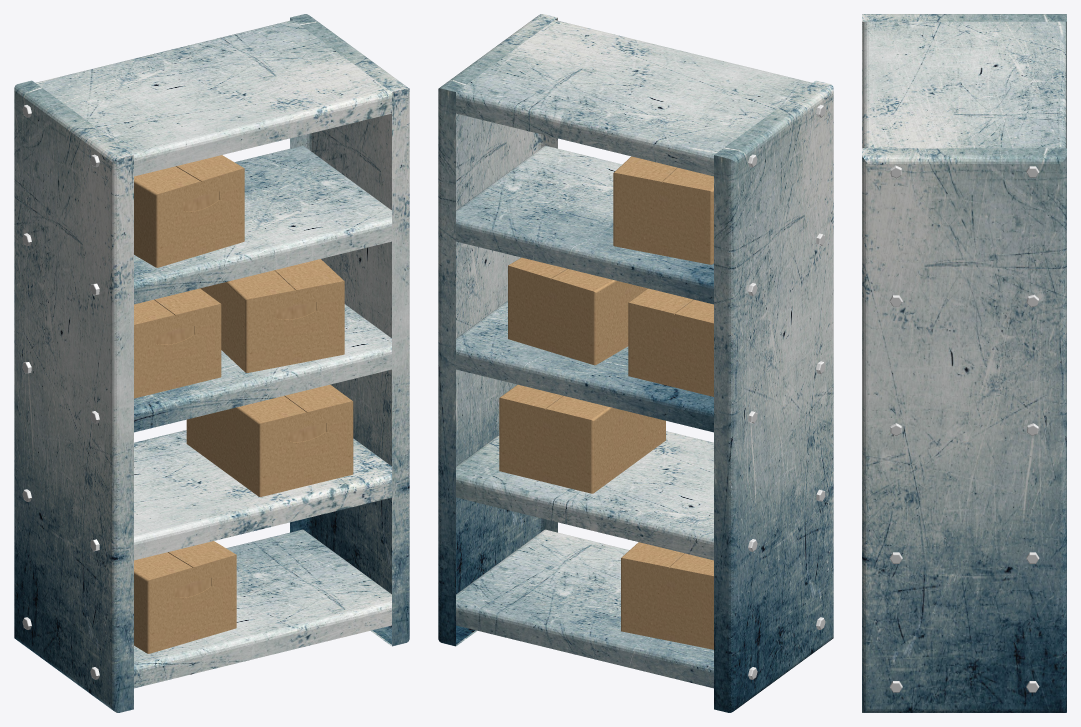
The model's file is metal_storage_cabinet.glb.
The picture shows the model from 3 angles, left to right: view 1: azimuth 30°, elevation 25°; view 2: azimuth 150°, elevation 25°; view 3: azimuth 270°, elevation 25°; orthographic projection.
Parts seen in each view (by area): view 1: Material2 (×9), Material3 (×5); view 2: Material2 (×9), Material3 (×5); view 3: Material2 (×3).
Boxes of the visible parts, x1,y1,x2,y2 form: Material2 (×9): [14, 14, 409, 712]; Material3 (×5): [134, 155, 351, 580]; Material2 (×9): [438, 14, 833, 712]; Material3 (×5): [500, 156, 713, 576]; Material2 (×3): [862, 14, 1066, 712].
Bounding box in the file's own units: 41.56 × 72 × 24.
Materials: 5 (2 with a texture image).
